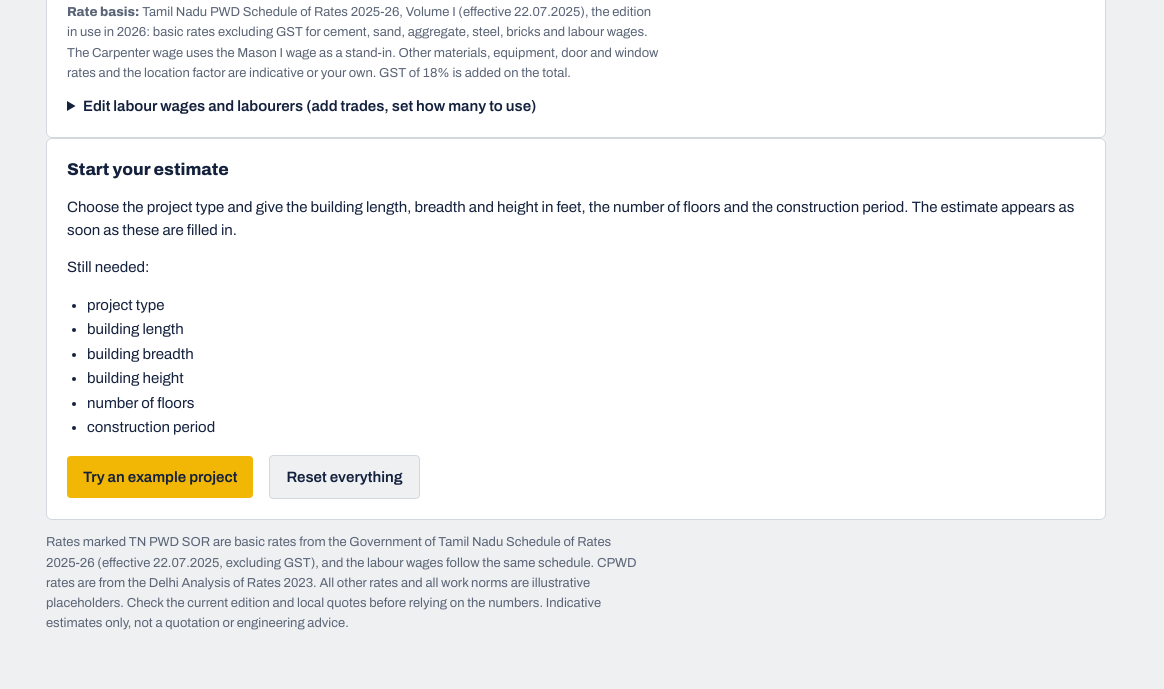
Scenario: App › the labour limit turns the card and banner red when exceeded
(page scrolled)
Click the button "Try an example project" at [160, 477], box [67,456,253,498]
(page scrolled)
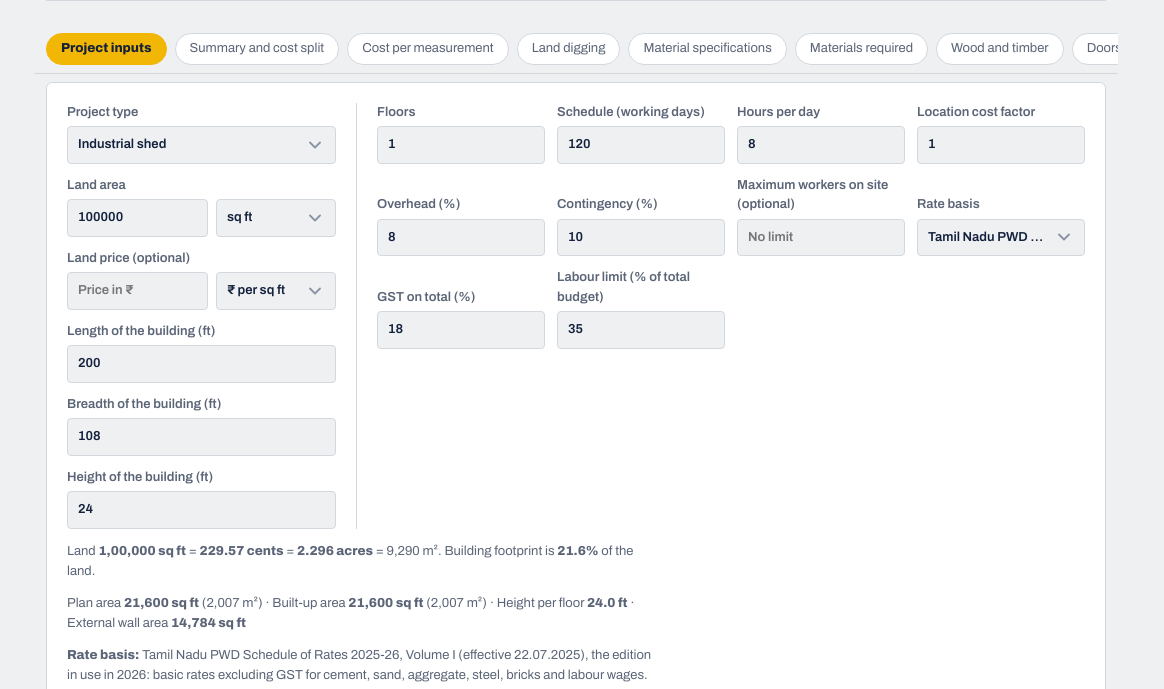
Replace the text in the number field named "Labour limit percent" with "5" at [641, 330], box [557,311,725,348]
(page scrolled)
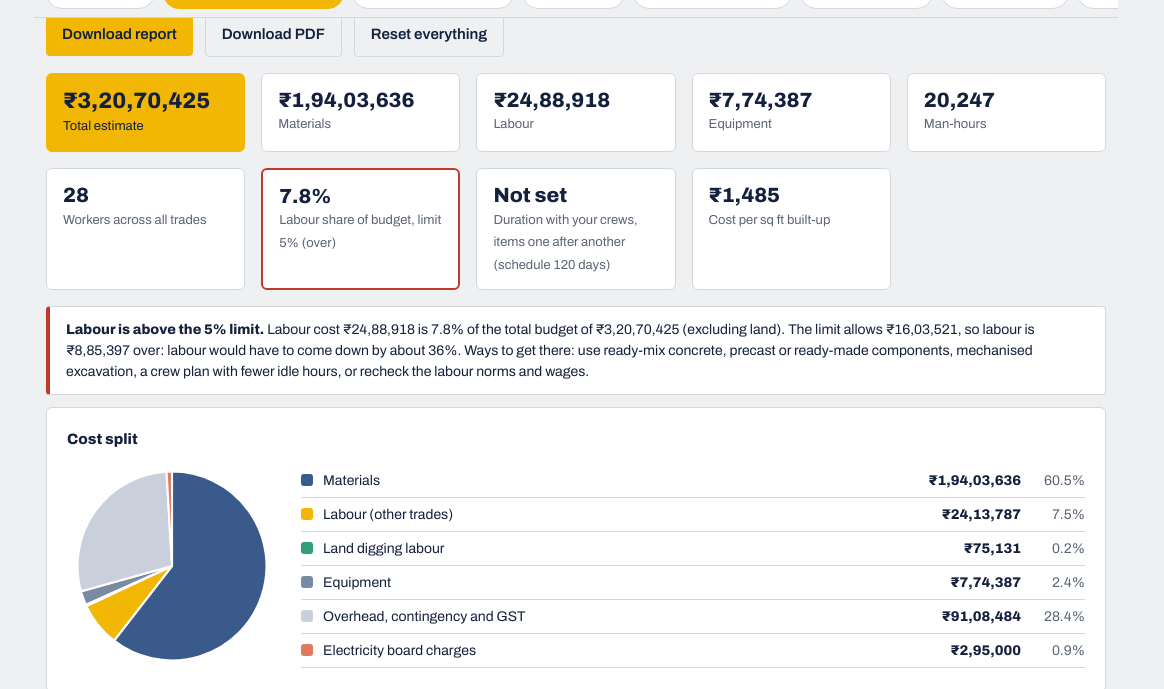
Check: the element with class "over" that starts with "Labour share of budget, limit 5% (over)" is shown, box [261,168,460,290]
Check: the text "Labour is above the 5% limit." is shown, box [66,322,264,337]
